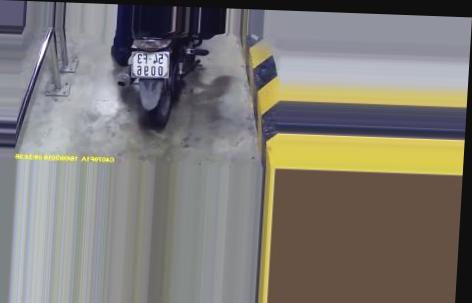License_Plate: (131, 48, 174, 79)
